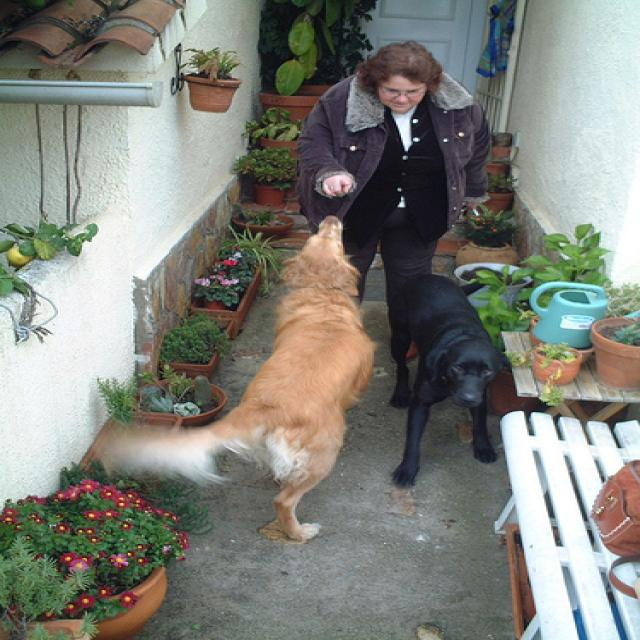dog: (105, 214, 375, 541), (378, 267, 501, 486)
person: (298, 37, 486, 368)
pottedplant: (1, 477, 190, 639), (491, 224, 609, 416), (258, 1, 366, 117), (1, 539, 102, 640), (189, 238, 267, 331), (122, 365, 228, 427), (499, 342, 588, 408), (158, 314, 238, 380), (230, 148, 305, 207), (455, 207, 522, 269), (182, 47, 240, 115), (588, 319, 639, 393), (245, 105, 305, 159), (230, 202, 295, 242), (481, 172, 518, 218)
